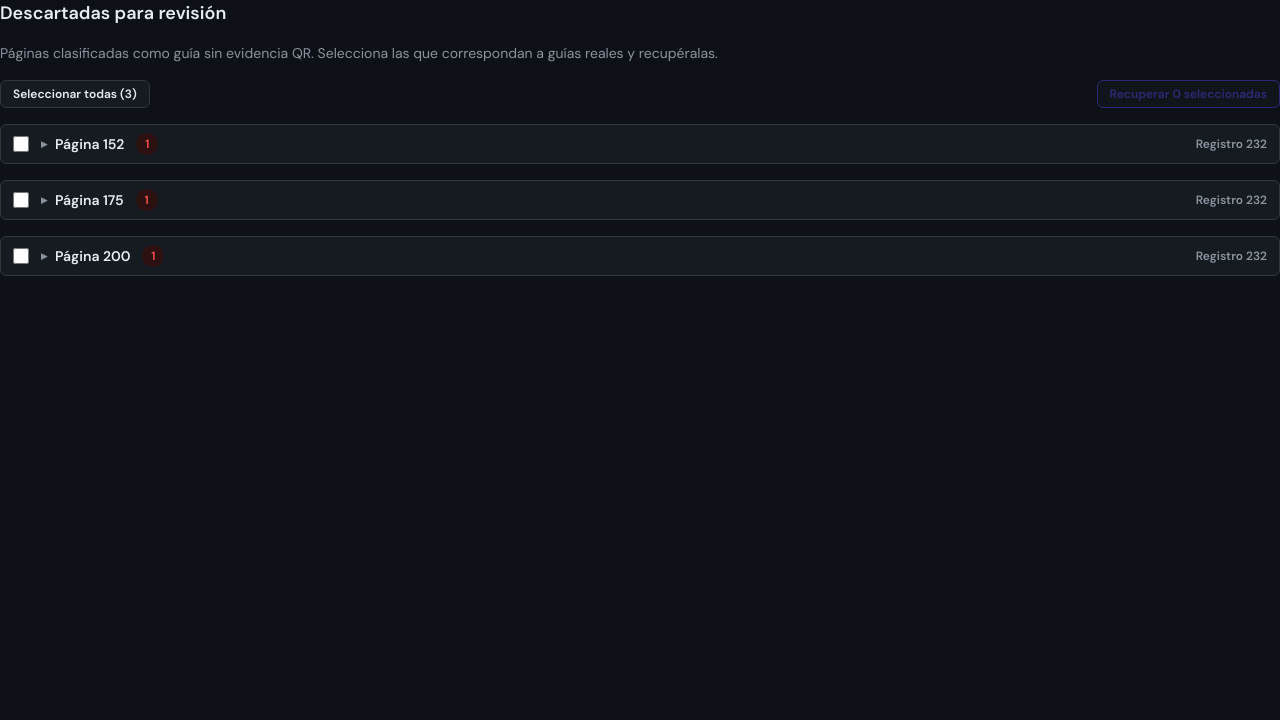
Test: DescartadasTab — poll-until-done (PR#49 SA-5 lesson) › shows the completion summary "2 recuperadas / 1 falló" after done=true
What coordinates should you click on to do the following:
click the button with class "descartadas-tab__select-all"
I would click on:
 (75, 94)
Its box is [0, 80, 150, 108].
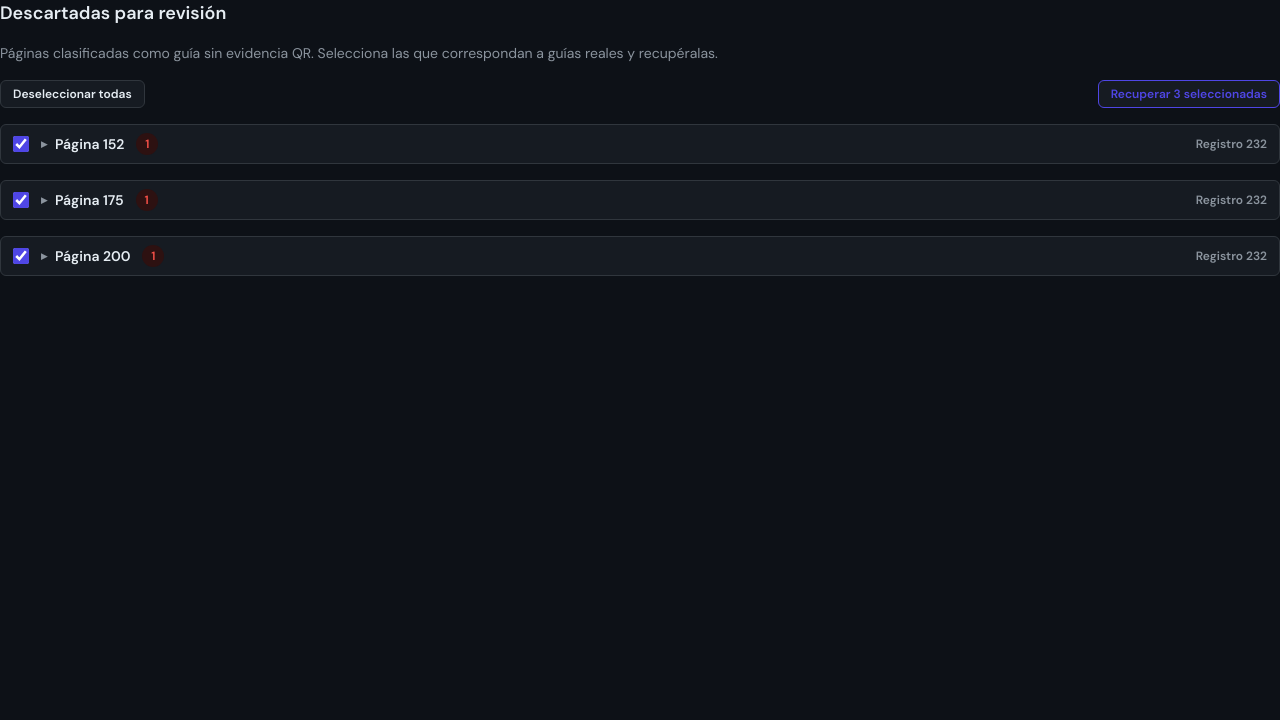
What coordinates should you click on to do the following:
click the button with class "descartadas-tab__bulk-btn"
I would click on:
 (1189, 94)
Its box is [1098, 80, 1279, 108].
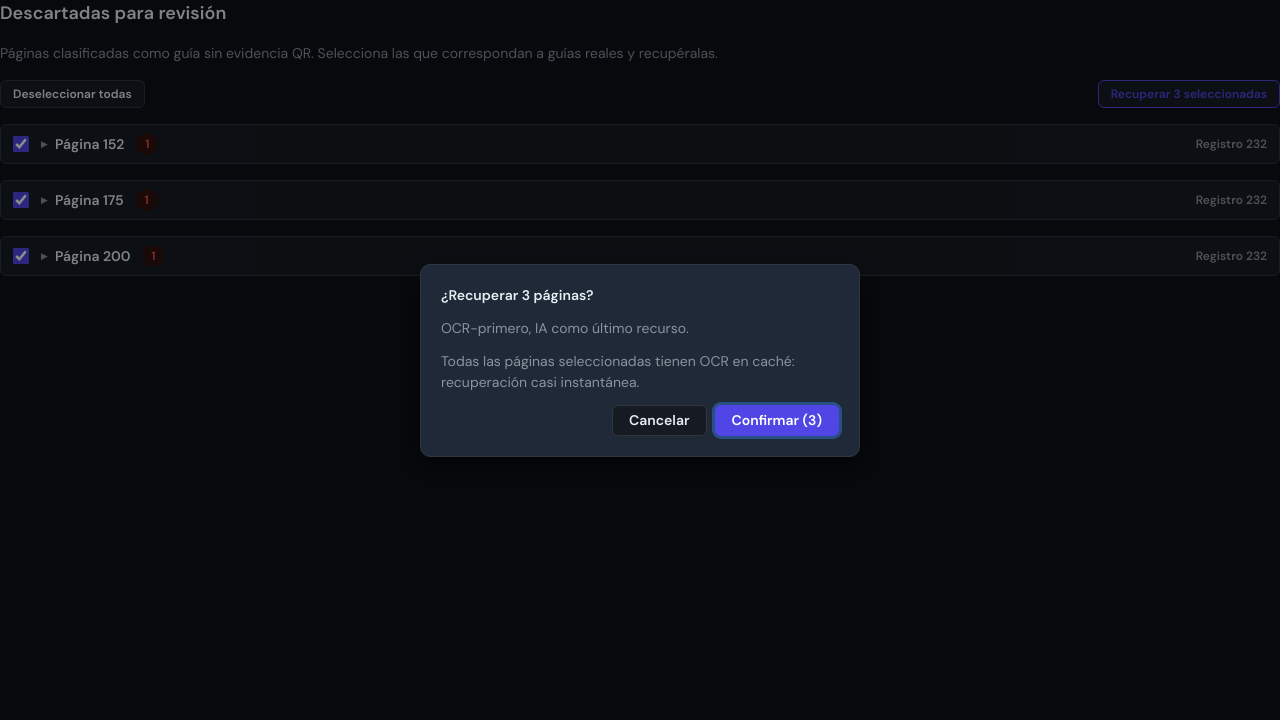
What coordinates should you click on to do the following:
click the button with class "descartadas-tab__dialog-confirm"
I would click on:
 (777, 420)
Its box is [714, 404, 839, 436].
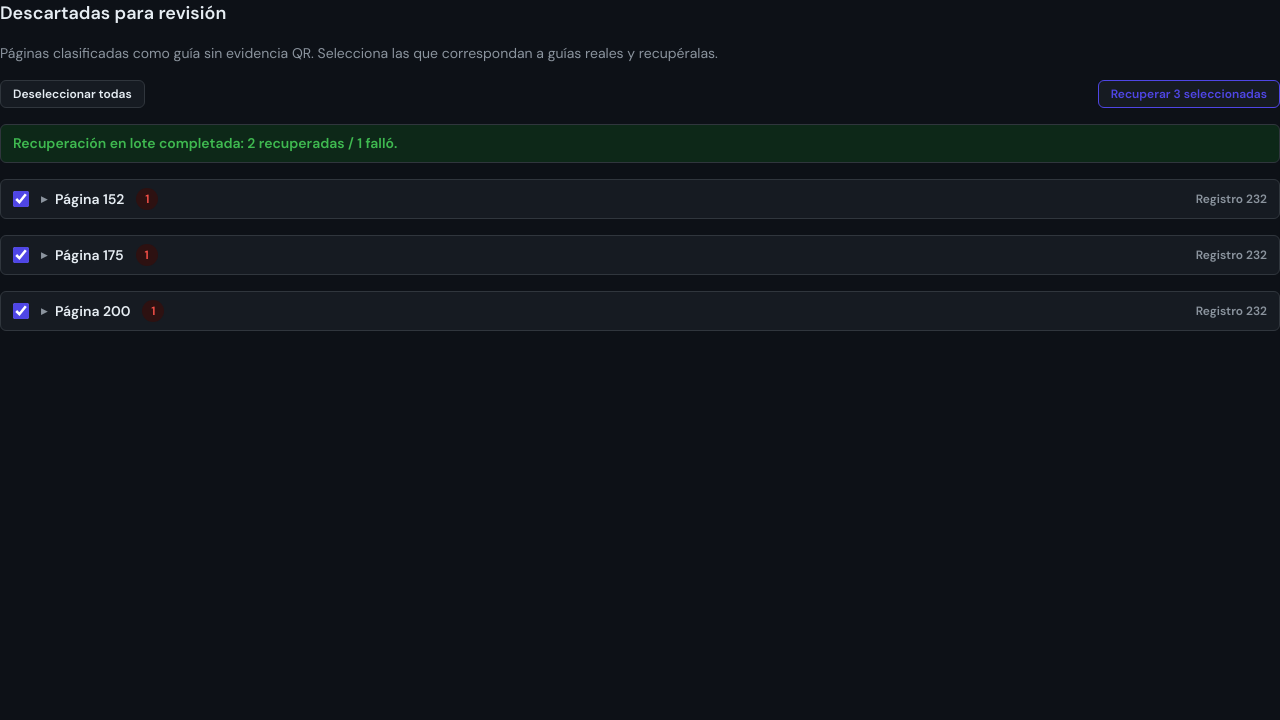
Now the message "Recuperación en lote completada: 2 recuperadas / 1 falló." is shown, box [0, 124, 1279, 163]
Now the message with class "descartadas-tab__batch-summary" shows "2 recuperadas", box [13, 134, 397, 152]
Now the message with class "descartadas-tab__batch-summary" shows "1 falló", box [13, 134, 397, 152]
